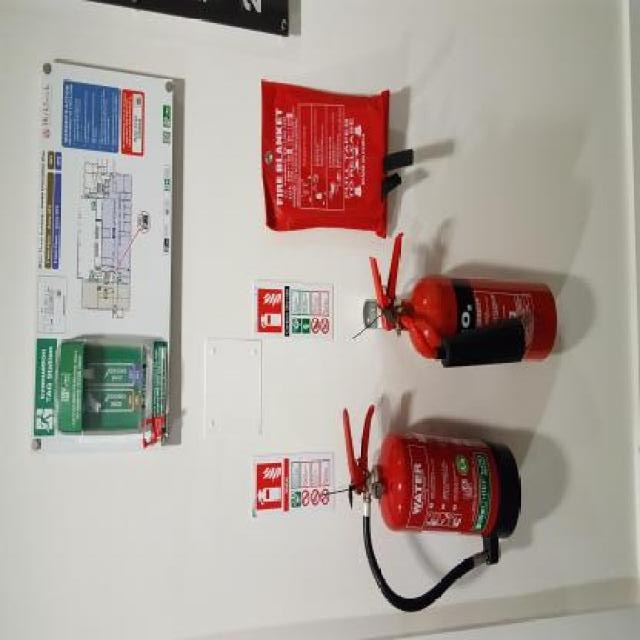fire extinguisher: (343, 404, 519, 616), (367, 243, 556, 374)
